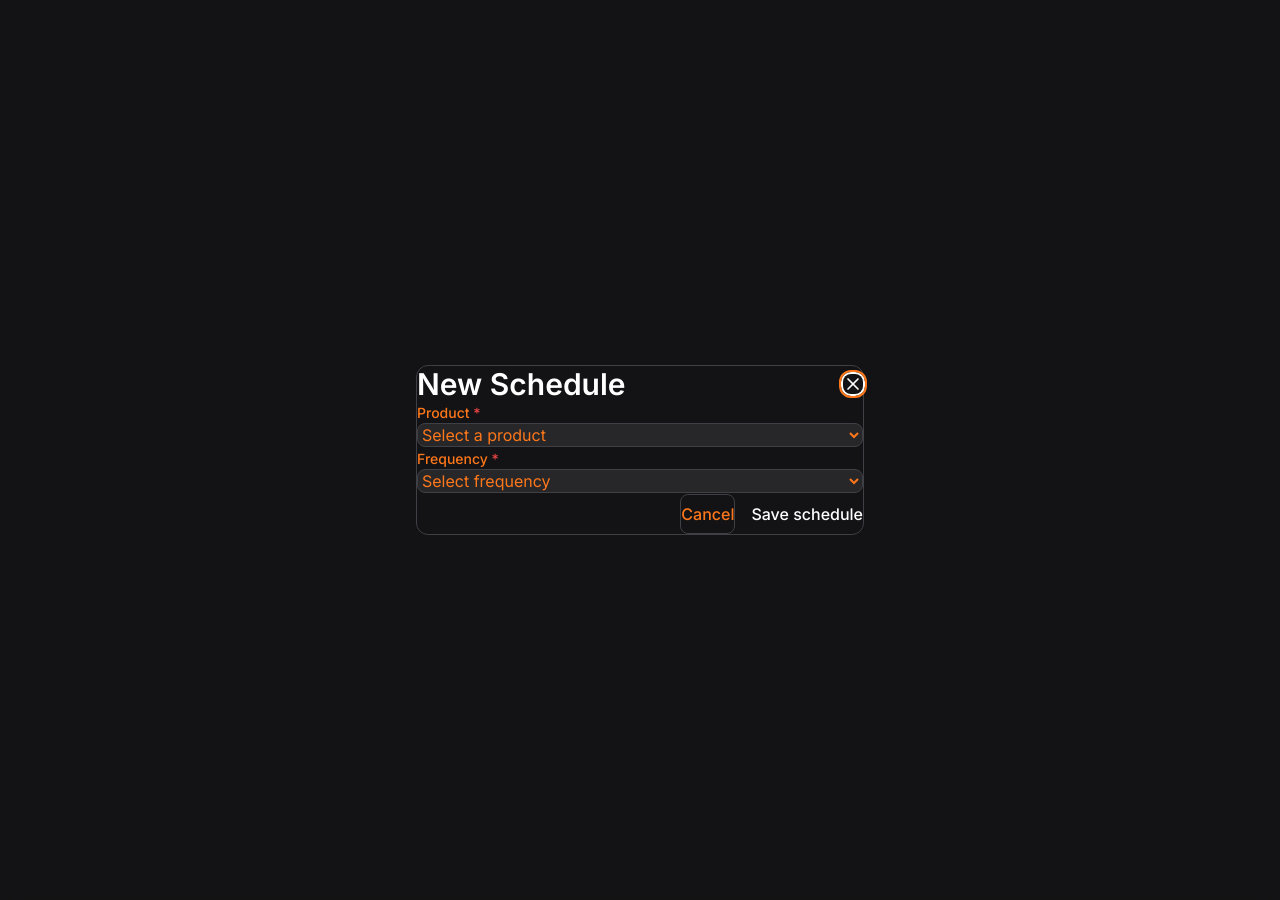
Test: ScheduleForm › Validation › should show error when frequency is not selected
Select "MercadoLibre" in the dropdown labelled "Product *" at (640, 435), box [417,423,863,447]
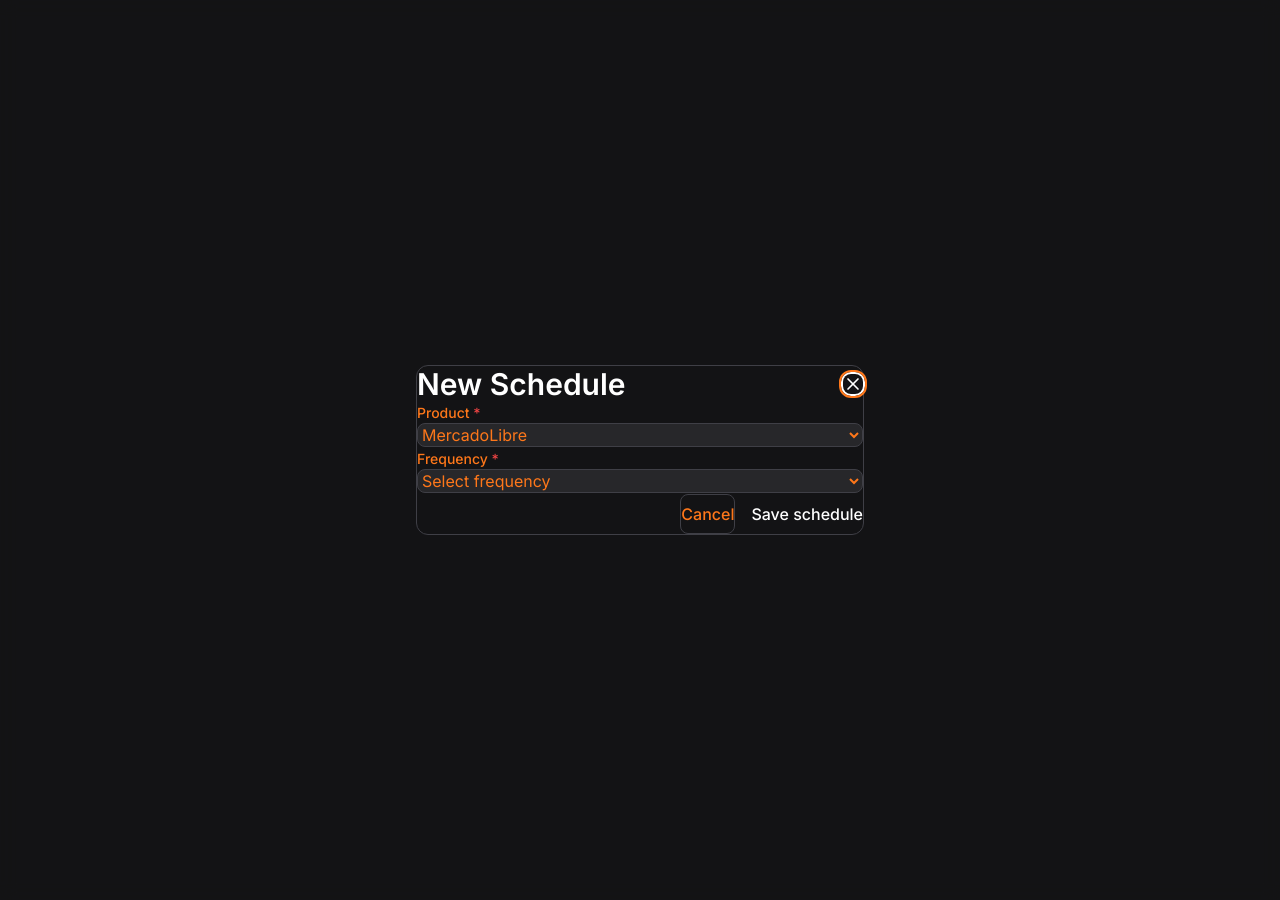
Click the button "Save schedule".
click(807, 514)  # box [751,494,863,534]
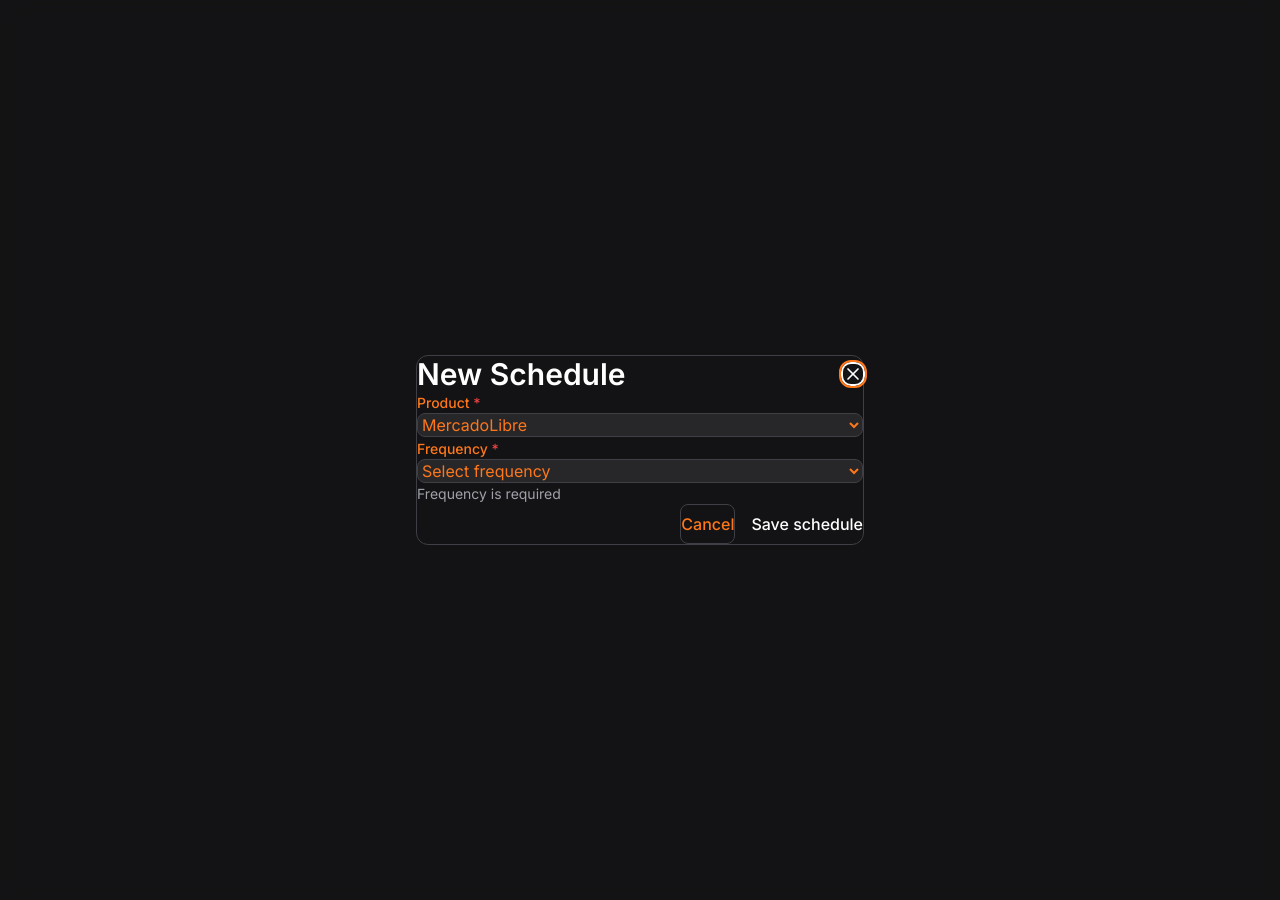
Expected: the text "Frequency is required" is shown, [417,485,561,502]
